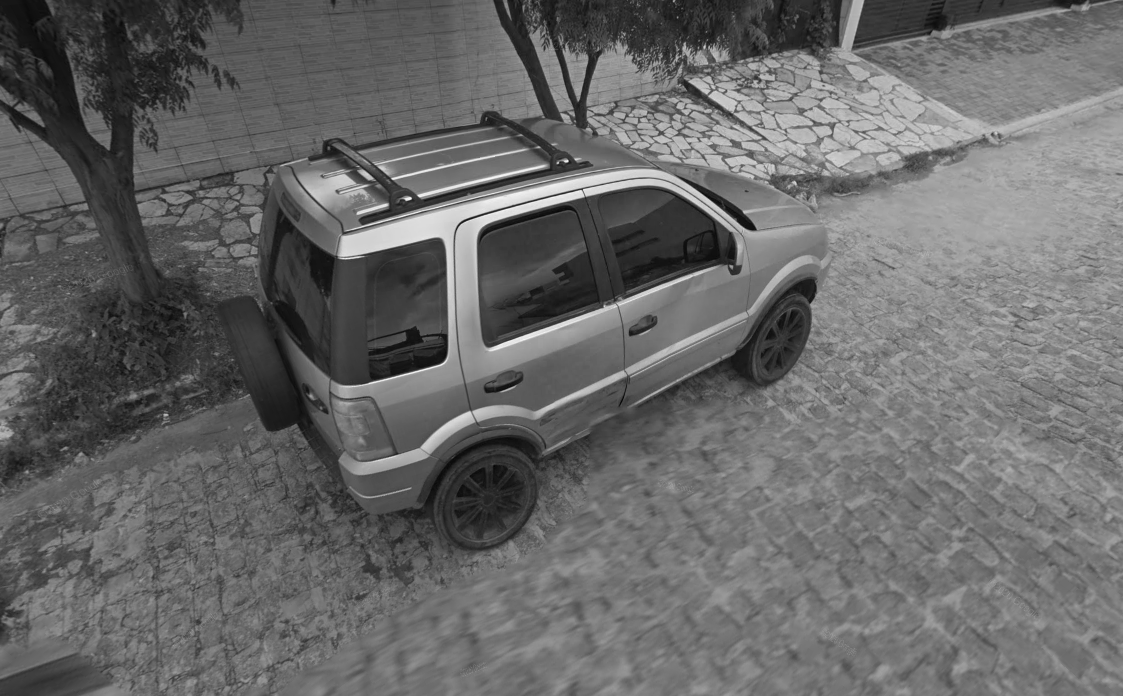car: (206, 105, 833, 557)
